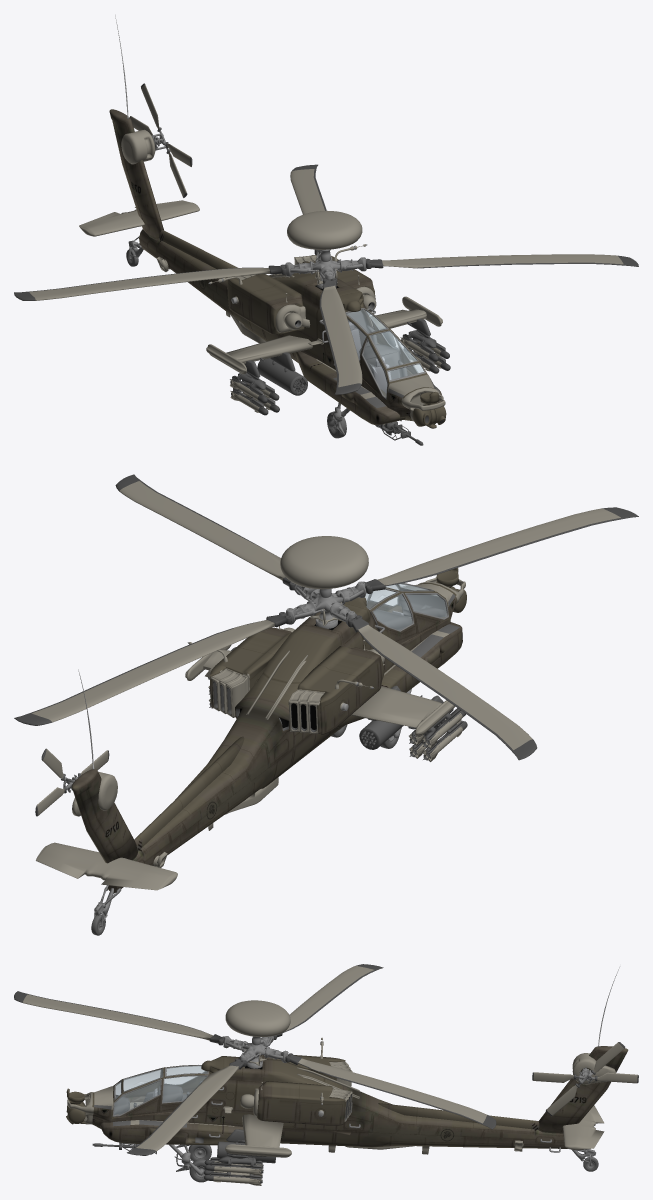
The model's file is Apache(1).fbx.
3 views of the same model, one above another, from view 1: azimuth 30°, elevation 25°; view 2: azimuth 150°, elevation 25°; view 3: azimuth 270°, elevation 25° (orthographic). The views are drawn at different scales.
Visible parts, largest first — view 1: Body, FrontRotor, RearTail, TailRotor, RightFrontDoor; view 2: Body, FrontRotor, RearTail, RightRearDoor1, RightFrontDoor, TailRotor; view 3: Body, FrontRotor, TailRotor, LeftFrontDoor, RearTail, LeftRearDoor, RightFrontDoor, RightRearDoor1, LeftGear, Missile8, Missile6, LeftWheel.
Boxes of the visible parts, box(x1,y1,x2,y2) form: Body: box(109, 109, 445, 428); FrontRotor: box(14, 164, 638, 394); RearTail: box(79, 200, 199, 236); TailRotor: box(130, 83, 192, 197); RightFrontDoor: box(360, 336, 389, 401); Body: box(71, 577, 465, 893); FrontRotor: box(14, 474, 638, 760); RearTail: box(36, 842, 177, 890); RightRearDoor1: box(371, 592, 416, 643); RightFrontDoor: box(403, 591, 449, 635); TailRotor: box(35, 748, 109, 816); Body: box(67, 1037, 628, 1179); FrontRotor: box(14, 964, 496, 1155); TailRotor: box(532, 1042, 638, 1116); LeftFrontDoor: box(112, 1077, 162, 1117); RearTail: box(562, 1105, 604, 1149); LeftRearDoor: box(160, 1075, 208, 1112); RightFrontDoor: box(113, 1067, 162, 1097); RightRearDoor1: box(162, 1065, 206, 1092); LeftGear: box(169, 1144, 202, 1175); Missile8: box(204, 1175, 262, 1185); Missile6: box(204, 1164, 263, 1175); LeftWheel: box(188, 1145, 211, 1161).
Size of the model in its own units: 1558 by 738 by 2014.
Materials: 13 (2 with a texture image).
